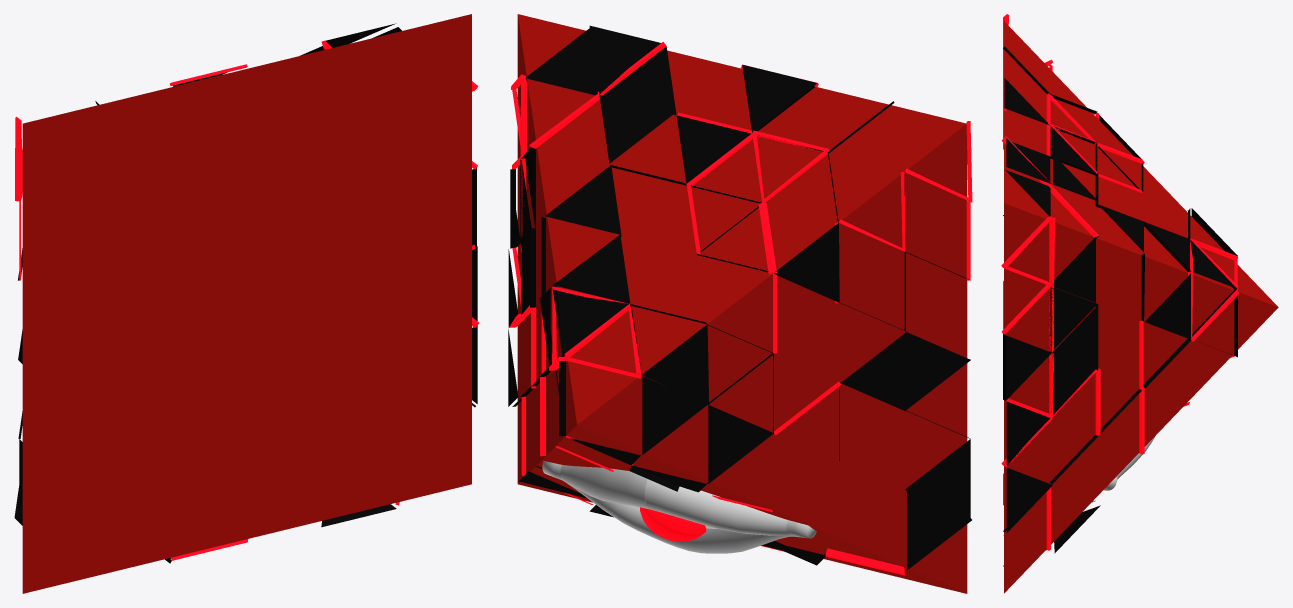
Rendered from PiramideBossPetDir.fbx.
The picture shows the model from 3 angles, left to right: view 1: azimuth 30°, elevation 25°; view 2: azimuth 150°, elevation 25°; view 3: azimuth 270°, elevation 25°; orthographic projection. The views are drawn at different scales.
Parts seen in each view (by area): view 1: BasePiramideDir, RelevoDir1, RelevoDir2; view 2: BasePiramideDir, RelevoDir1, RelevoDir2, VoltaOlhoCimaDir, VoltaOlhoBaixoDir, PupilDir; view 3: BasePiramideDir, RelevoDir1, RelevoDir2.
Boxes of the visible parts, <box> form: BasePiramideDir: <box>22,14,471,593</box>; RelevoDir1: <box>14,23,477,563</box>; RelevoDir2: <box>15,40,478,560</box>; BasePiramideDir: <box>517,14,967,593</box>; RelevoDir1: <box>508,25,971,570</box>; RelevoDir2: <box>508,42,972,575</box>; VoltaOlhoCimaDir: <box>545,465,816,538</box>; VoltaOlhoBaixoDir: <box>542,461,815,553</box>; PupilDir: <box>640,507,706,541</box>; BasePiramideDir: <box>1004,21,1278,593</box>; RelevoDir1: <box>1003,46,1237,553</box>; RelevoDir2: <box>1001,14,1239,566</box>.
Size of the model in its own units: 140 by 140 by 87.2.
